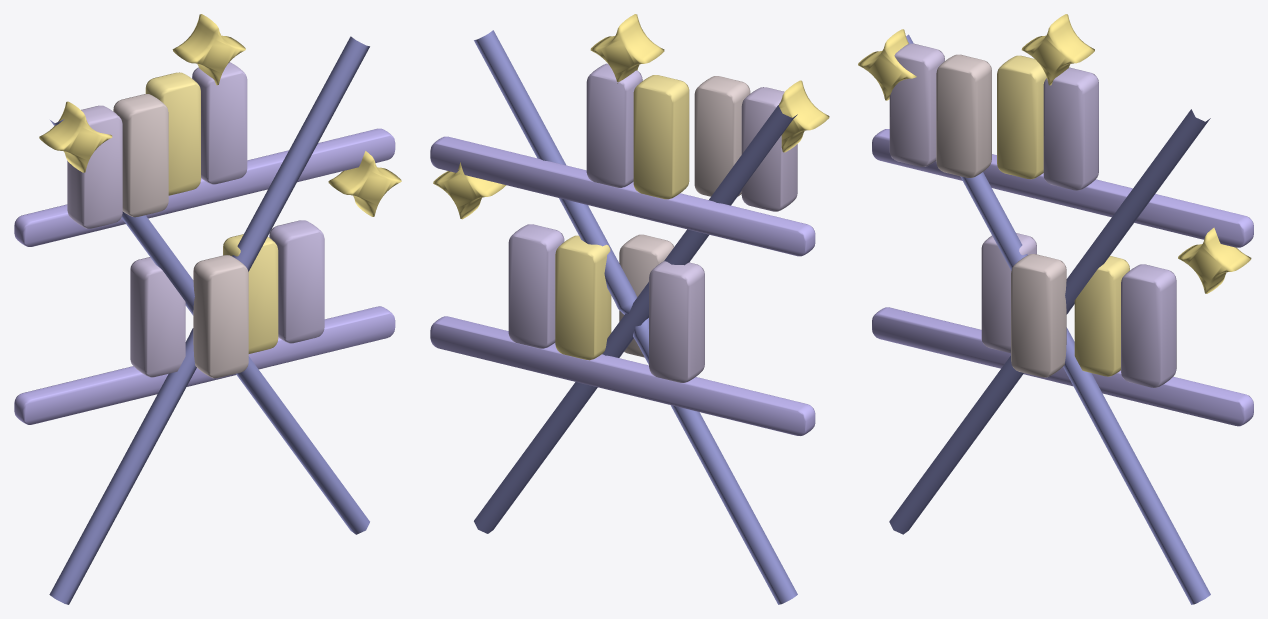
File: decor_4_star.glb
The picture shows the model from 3 angles, left to right: view 1: azimuth 30°, elevation 25°; view 2: azimuth 150°, elevation 25°; view 3: azimuth 330°, elevation 25°; orthographic projection.
Parts seen in each view (by area): view 1: decor_4_star; view 2: decor_4_star; view 3: decor_4_star.
Boxes of the visible parts, bbox=[...] form: decor_4_star: bbox=[14, 14, 401, 604]; decor_4_star: bbox=[430, 14, 829, 604]; decor_4_star: bbox=[858, 14, 1253, 604].
Bounding box in the file's own units: 9.65 × 13.49 × 1.52.
